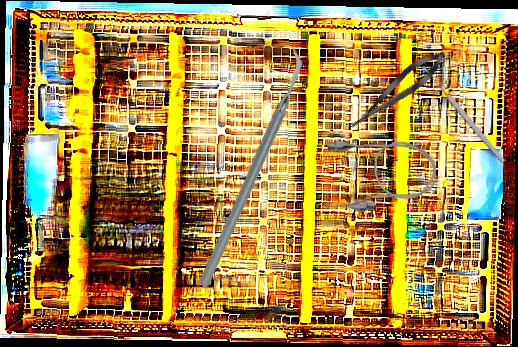Cannula: (319, 138, 438, 213)
Chopper: (125, 44, 376, 290)
Micro Scissor: (340, 43, 452, 139)
Surgical Spoon: (421, 64, 507, 165)
